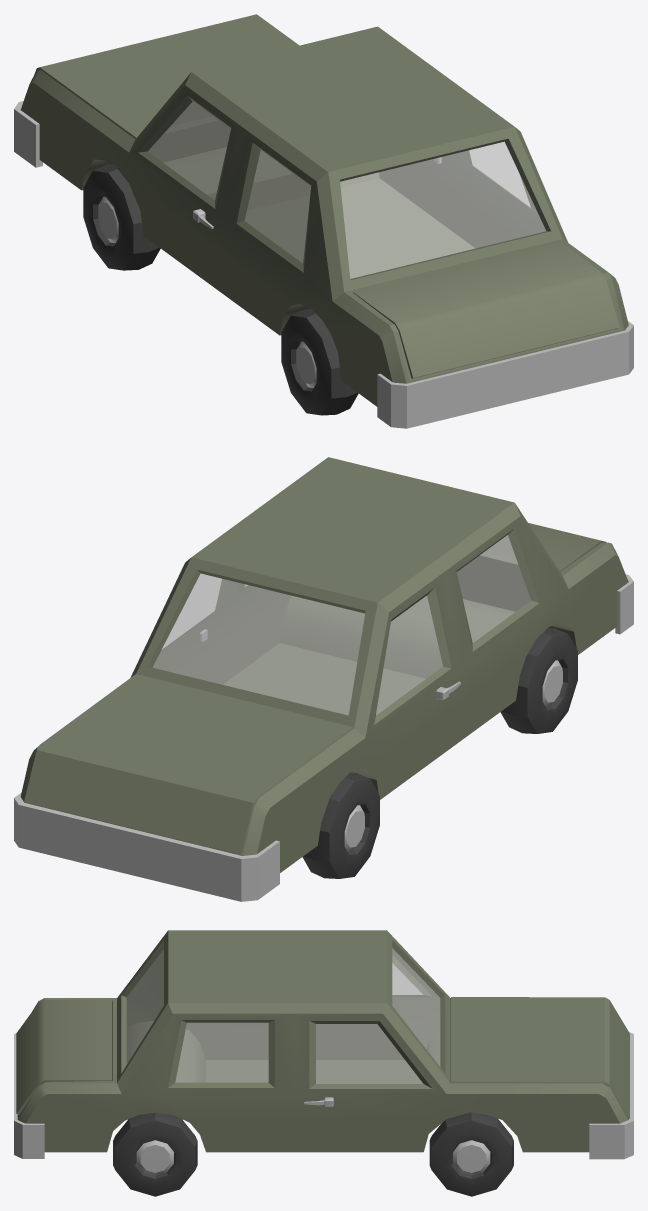
File: Carro.fbx
3 renders of one model, top to bottom at view 1: azimuth 30°, elevation 25°; view 2: azimuth 150°, elevation 25°; view 3: azimuth 270°, elevation 25°, orthographic. The views are drawn at different scales.
Visible parts, largest first — view 1: Carro Quadrado.003; view 2: Carro Quadrado.003; view 3: Carro Quadrado.003.
Part boxes in pixels (x1,y1,x2,y2): Carro Quadrado.003: (14,14,633,428); Carro Quadrado.003: (14,457,633,901); Carro Quadrado.003: (14,930,633,1196).
Bounding box in the file's own units: 205 × 178 × 543.
